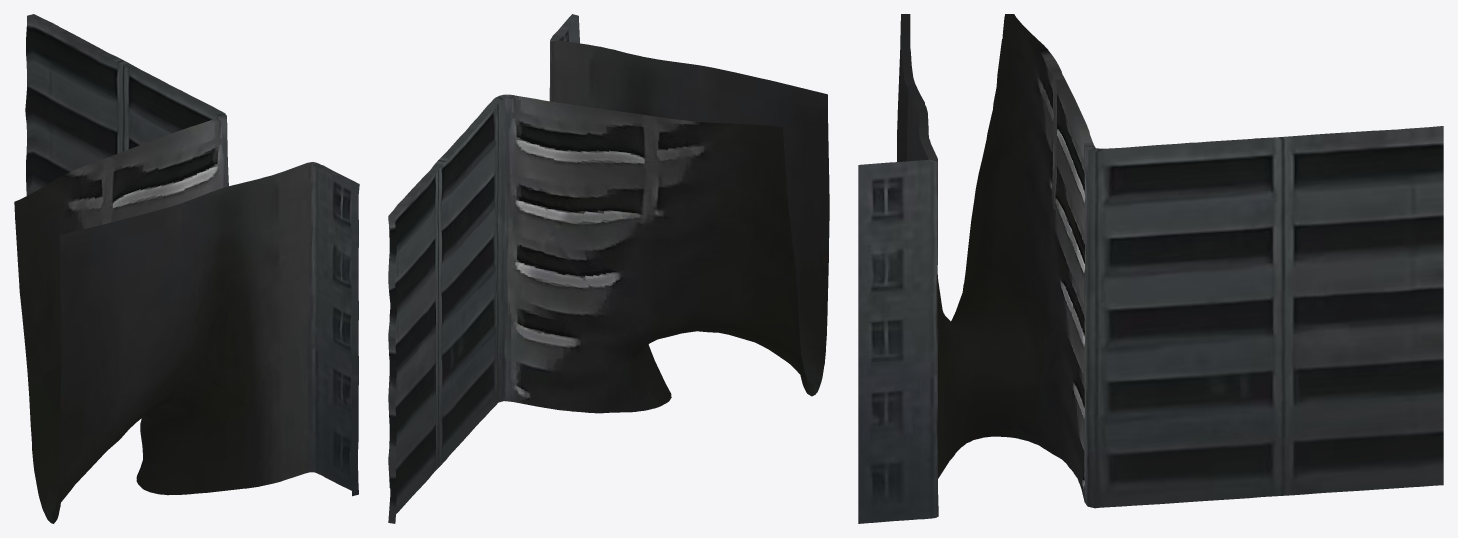
Rendered from z20-167766-405237-h1-yup-uvflip-v3-world.glb.
3 renders of one model, left to right at view 1: azimuth 30°, elevation 25°; view 2: azimuth 150°, elevation 25°; view 3: azimuth 270°, elevation 25°, orthographic. The views are drawn at different scales.
Bounding box in the file's own units: 19 × 20.32 × 30.32.
1 material, 1 textured.
